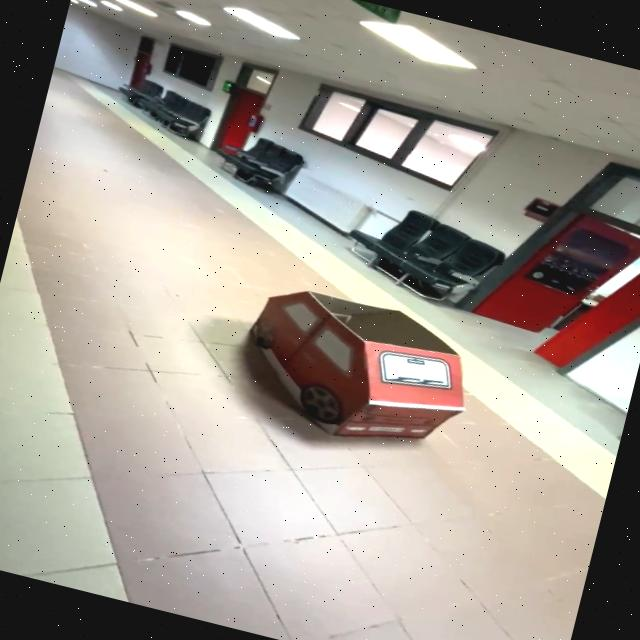red_car: (187, 253, 502, 484)
